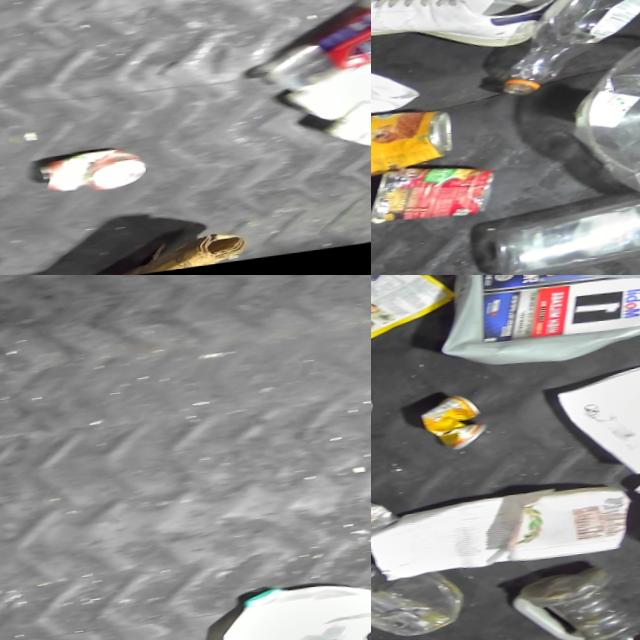can: (374, 161, 506, 236), (371, 107, 464, 182), (46, 147, 168, 204), (423, 394, 495, 453), (327, 84, 371, 160), (371, 489, 407, 556)
milk_jug: (202, 568, 371, 640)
plastic_bottle: (497, 0, 640, 103), (475, 196, 640, 275), (371, 558, 479, 640)
